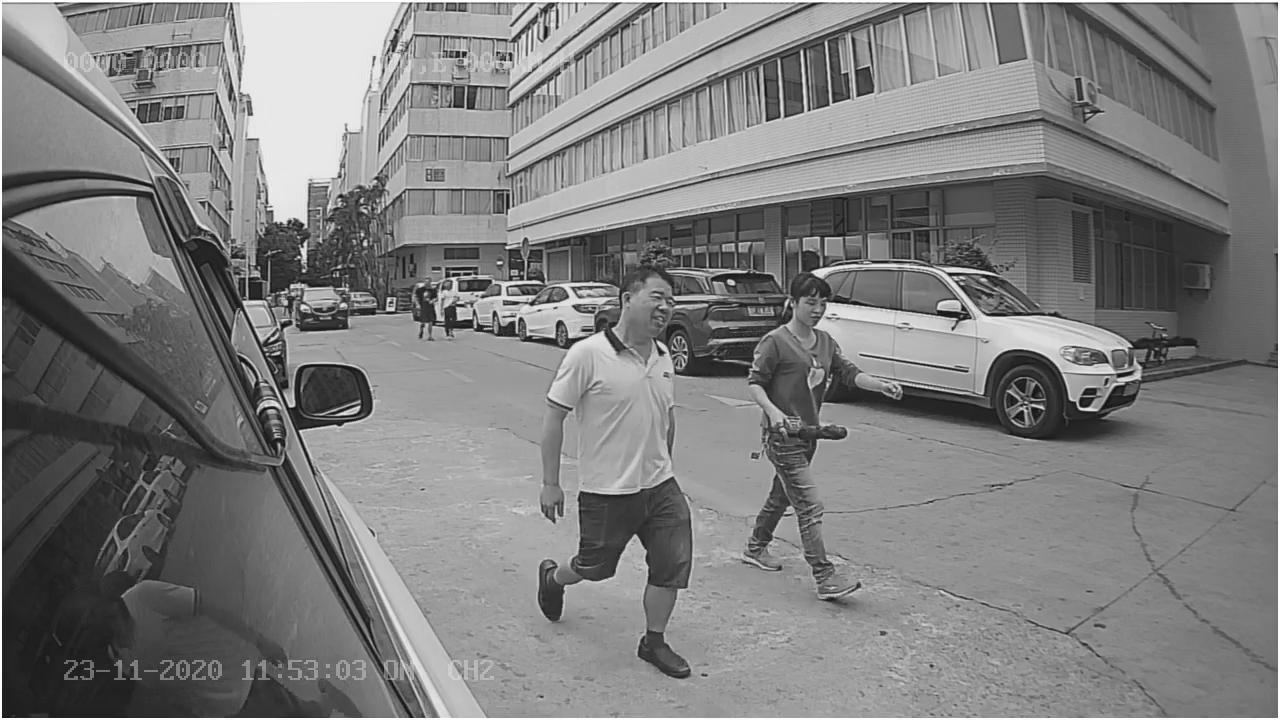person: (549, 268, 694, 661), (747, 275, 863, 599)
